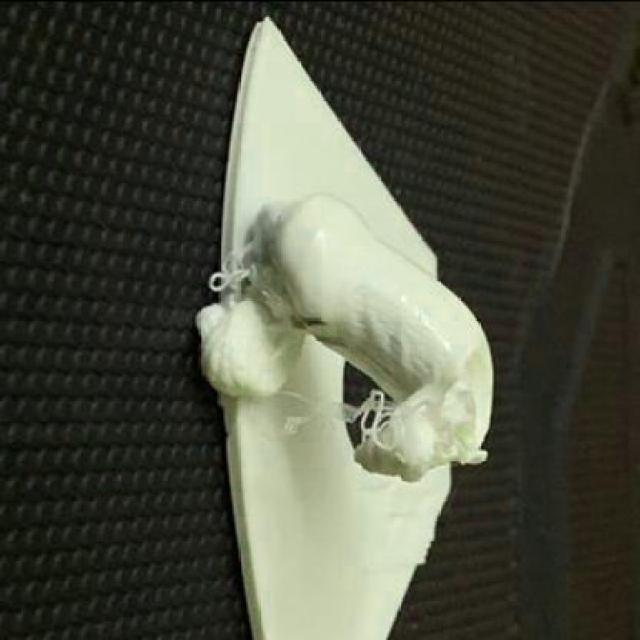Spaghetti: (282, 388, 402, 449), (252, 263, 298, 322), (210, 251, 252, 291)
